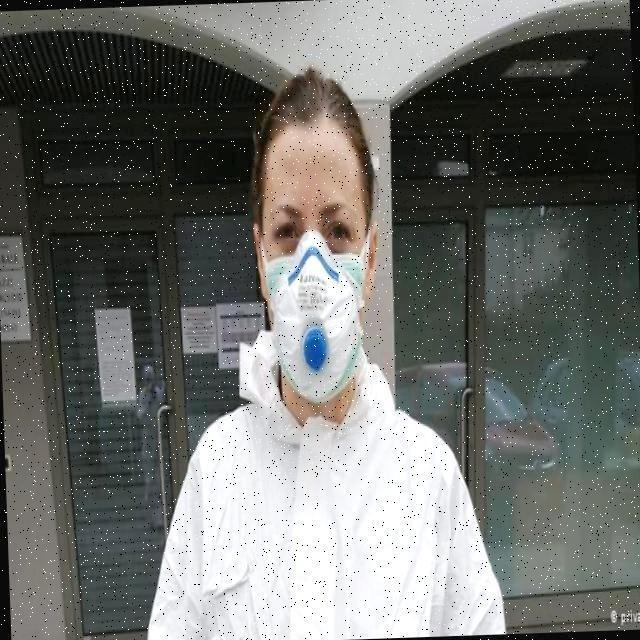mask: (258, 270, 356, 386)
no_gloves: (252, 73, 374, 160)
